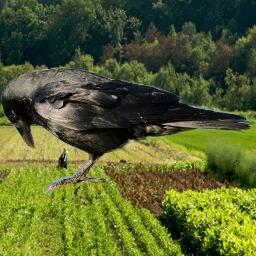Crow: (1, 67, 254, 195)
